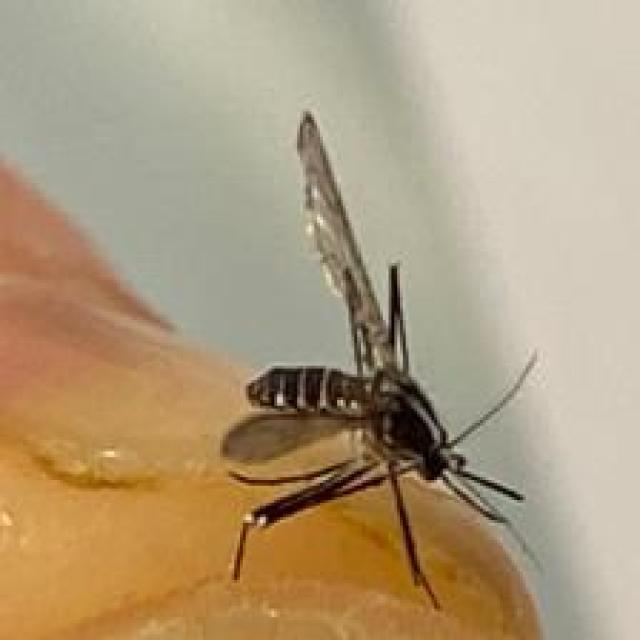Aedes albopictus: (217, 109, 546, 612)
